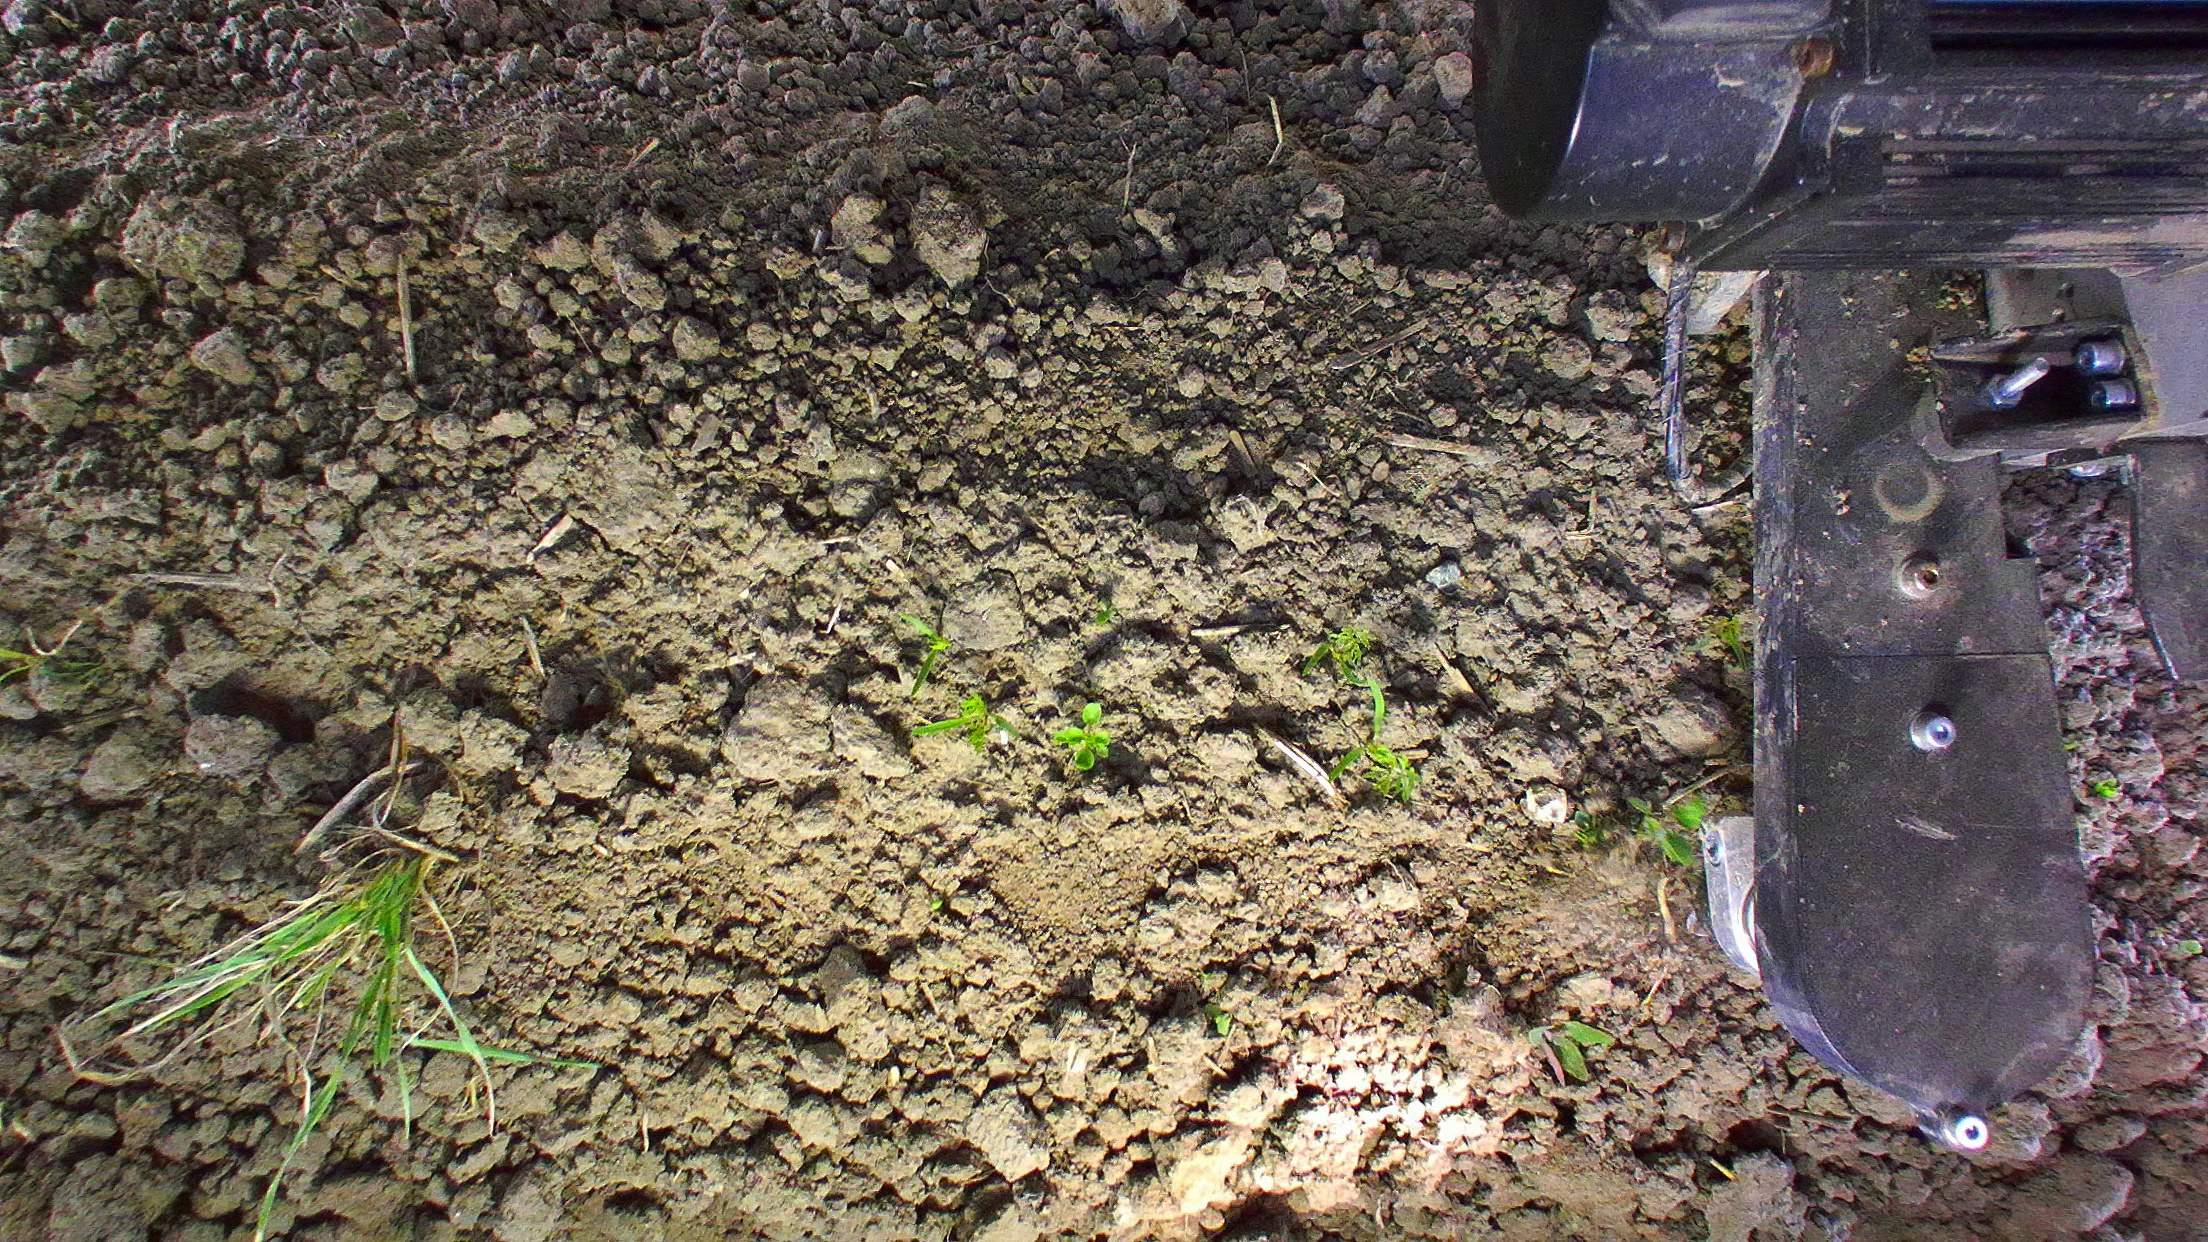Crop: (1298, 625, 1425, 804), (907, 688, 1021, 755), (896, 610, 954, 698), (1049, 698, 1115, 773), (36, 657, 73, 693), (1717, 613, 1744, 658), (2088, 776, 2122, 801)
Weed: (96, 860, 541, 1162), (1626, 790, 1711, 884), (1554, 1019, 1615, 1090), (1570, 807, 1607, 845), (1201, 1002, 1233, 1034)
